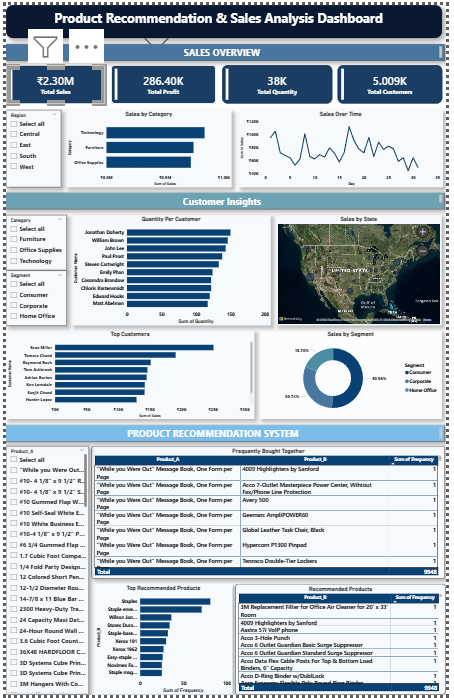

What the dashboard file says about the page in this screenshot:
{"tool":"powerbi","page":{"name":"Page 1","canvas":[1273,2000],"ordinal":0},"visuals":[{"type":"cardVisual","fields":{"Data":["Sum(cleaned_data_superstore.Sales)"]},"box":[0,176,288,112],"z":0},{"type":"cardVisual","fields":{"Data":["Sum(cleaned_data_superstore.Profit)"]},"box":[304,176,304,112],"z":1000},{"type":"cardVisual","fields":{"Data":["Sum(cleaned_data_superstore.Quantity)"]},"box":[624,176,320,112],"z":2000},{"type":"cardVisual","fields":{"Data":["Count(cleaned_data_superstore.Order ID)"]},"box":[960,176,304,112],"z":3000},{"type":"clusteredBarChart","title":"Sales by Category","fields":{"Category":["cleaned_data_superstore.Category"],"Y":["Sum(cleaned_data_superstore.Sales)"]},"box":[168,312,480,216],"z":4000},{"type":"lineChart","title":"Sales Over Time","fields":{"Y":["Sum(cleaned_data_superstore.Sales)"],"Category":["cleaned_data_superstore.Order Date.Variation.Date Hierarchy.Day"]},"box":[672,304,592,224],"z":5000},{"type":"clusteredBarChart","title":"Top Customers","fields":{"Category":["cleaned_data_superstore.Customer Name"],"Y":["Sum(cleaned_data_superstore.Sales)"]},"box":[0,944,720,256],"z":6000},{"type":"donutChart","title":"Sales by Segment","fields":{"Y":["Sum(cleaned_data_superstore.Sales)"],"Category":["cleaned_data_superstore.Segment"]},"box":[736,944,528,256],"z":7000},{"type":"map","title":"Sales by State","fields":{"Category":["cleaned_data_superstore.State"],"Size":["Sum(cleaned_data_superstore.Sales)"]},"box":[784,608,480,320],"z":8000},{"type":"clusteredBarChart","title":"Quantity Per Customer","fields":{"Category":["cleaned_data_superstore.Customer Name"],"Y":["Sum(cleaned_data_superstore.Quantity)"]},"box":[192,608,576,320],"z":9000},{"type":"tableEx","title":"Frequently Bought Together","fields":{"Values":["Query1.Product_A","Query1.Product_B","Sum(Query1.Frequency)"]},"box":[249,1280,1024,320],"z":10000},{"type":"clusteredBarChart","title":"Top Recommended Products ","fields":{"Category":["Query1.Product_B"],"Y":["Sum(Query1.Frequency)"]},"box":[256,1616,400,384],"z":11000},{"type":"tableEx","title":"Recommended Products","fields":{"Values":["Query1.Product_B","Sum(Query1.Frequency)"]},"box":[665,1616,608,384],"z":12000},{"type":"slicer","fields":{"Values":["Query1.Product_A"]},"box":[0,1280,240,720],"z":13000},{"type":"textbox","box":[-7,1216,1280,48],"z":14000},{"type":"textbox","box":[-7,544,1280,48],"z":15000},{"type":"textbox","box":[0,0,1264,96],"z":16000},{"type":"slicer","fields":{"Values":["cleaned_data_superstore.Category"]},"box":[0,608,176,160],"z":17000},{"type":"slicer","fields":{"Values":["cleaned_data_superstore.Region"]},"box":[0,304,160,192],"z":18000},{"type":"textbox","box":[-7,112,1280,48],"z":19000},{"type":"slicer","fields":{"Values":["cleaned_data_superstore.Segment"]},"box":[0,768,176,160],"z":20000}]}

Visuals, with their boxes in screenshot pixels (x1, y1, x2, y2), scaled from the page's 1273x2000 canvas onto the 454x698 screenshot:
cardVisual - Sum(cleaned_data_superstore.Sales): <bbox>0, 61, 103, 101</bbox>
cardVisual - Sum(cleaned_data_superstore.Profit): <bbox>108, 61, 217, 101</bbox>
cardVisual - Sum(cleaned_data_superstore.Quantity): <bbox>223, 61, 337, 101</bbox>
cardVisual - Count(cleaned_data_superstore.Order ID): <bbox>342, 61, 451, 101</bbox>
"Sales by Category" clusteredBarChart: <bbox>60, 109, 231, 184</bbox>
"Sales Over Time" lineChart: <bbox>240, 106, 451, 184</bbox>
"Top Customers" clusteredBarChart: <bbox>0, 329, 257, 419</bbox>
"Sales by Segment" donutChart: <bbox>262, 329, 451, 419</bbox>
"Sales by State" map: <bbox>280, 212, 451, 324</bbox>
"Quantity Per Customer" clusteredBarChart: <bbox>68, 212, 274, 324</bbox>
"Frequently Bought Together" tableEx: <bbox>89, 447, 453, 558</bbox>
"Top Recommended Products " clusteredBarChart: <bbox>91, 564, 234, 697</bbox>
"Recommended Products" tableEx: <bbox>237, 564, 453, 697</bbox>
slicer - Query1.Product_A: <bbox>0, 447, 86, 697</bbox>
textbox: <bbox>0, 424, 453, 441</bbox>
textbox: <bbox>0, 190, 453, 207</bbox>
textbox: <bbox>0, 0, 451, 34</bbox>
slicer - cleaned_data_superstore.Category: <bbox>0, 212, 63, 268</bbox>
slicer - cleaned_data_superstore.Region: <bbox>0, 106, 57, 173</bbox>
textbox: <bbox>0, 39, 453, 56</bbox>
slicer - cleaned_data_superstore.Segment: <bbox>0, 268, 63, 324</bbox>
